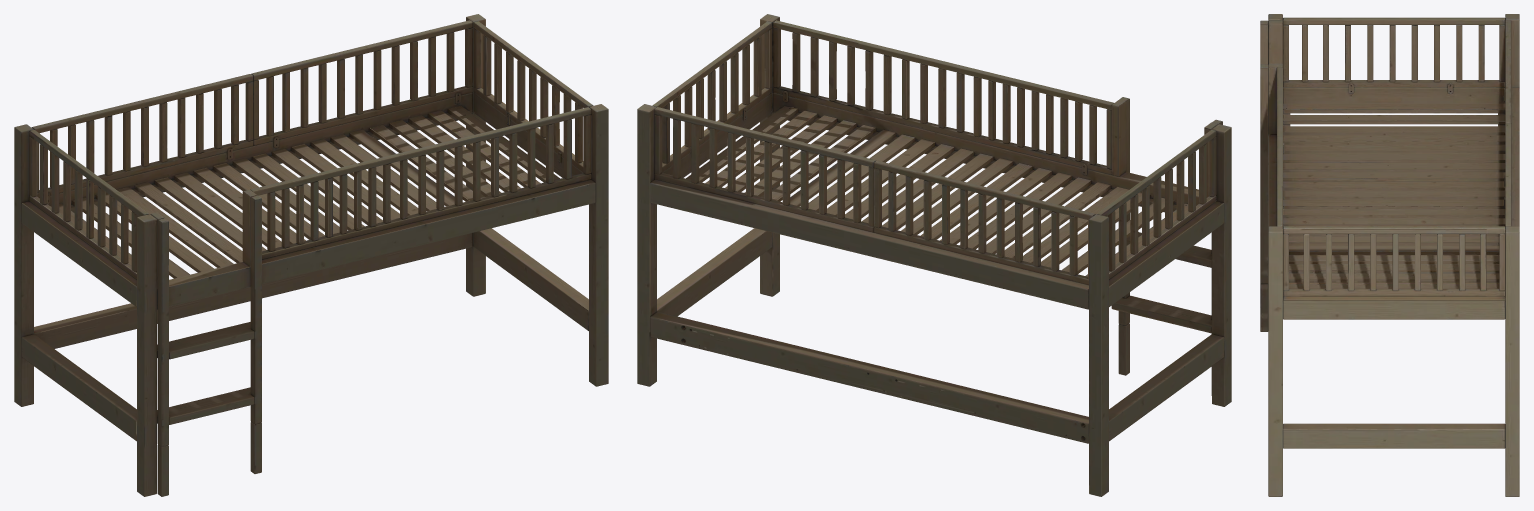
3 views of the same model, side by side, from view 1: azimuth 30°, elevation 25°; view 2: azimuth 150°, elevation 25°; view 3: azimuth 270°, elevation 25° (orthographic). The views are drawn at different scales.
Visible parts, largest first — view 1: 200x90; view 2: 200x90; view 3: 200x90.
Part boxes in pixels (box(x1,y1,x2,y2)): 200x90: box(14, 14, 608, 496); 200x90: box(637, 14, 1231, 496); 200x90: box(1260, 14, 1519, 496).
Bounding box in the file's own units: 2.14 × 1.21 × 1.07.
1 material, 1 textured.
